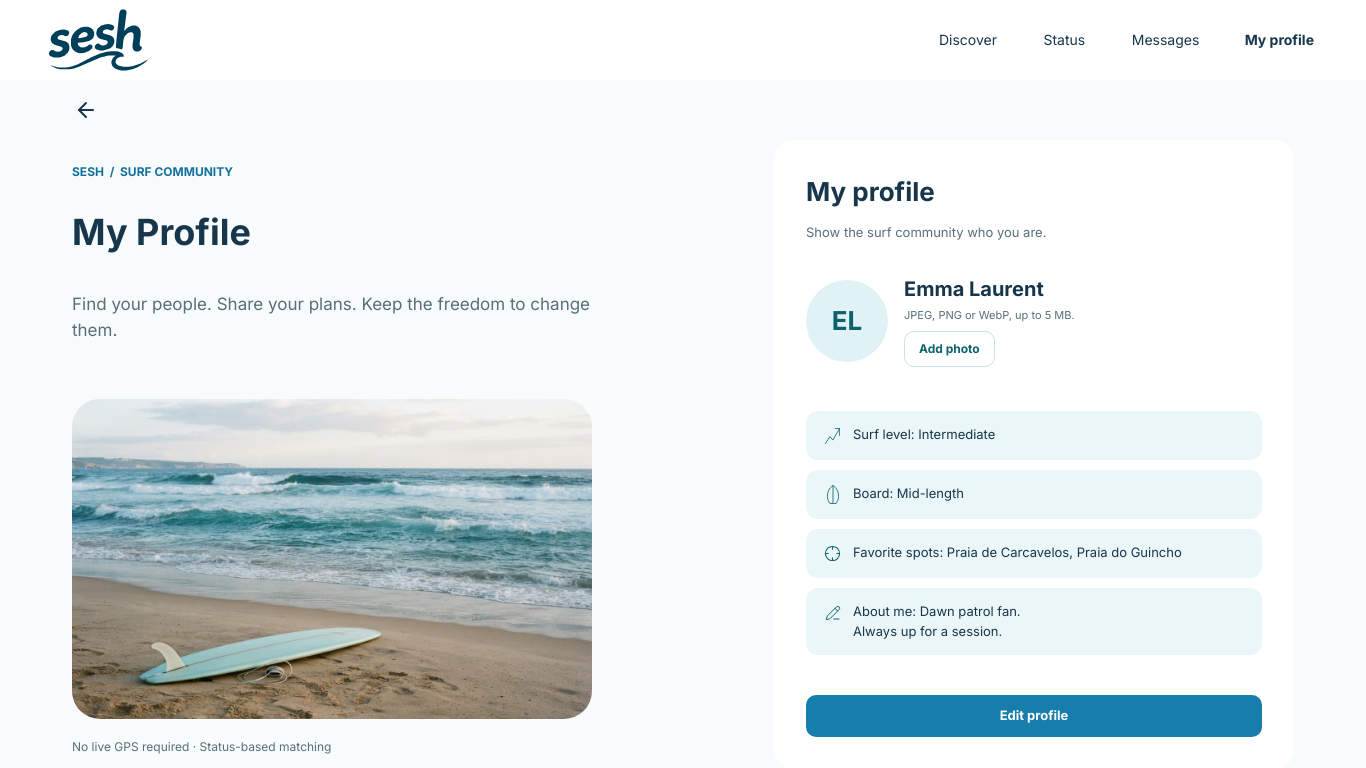
Test: Edit mode › opens with the saved values, keeps the photo controls, and focuses the first field
Expected: the element named "Profile details" is shown, [806,411,1262,655]
Click the button "Edit profile" at (1034, 716), box [806,695,1262,737]
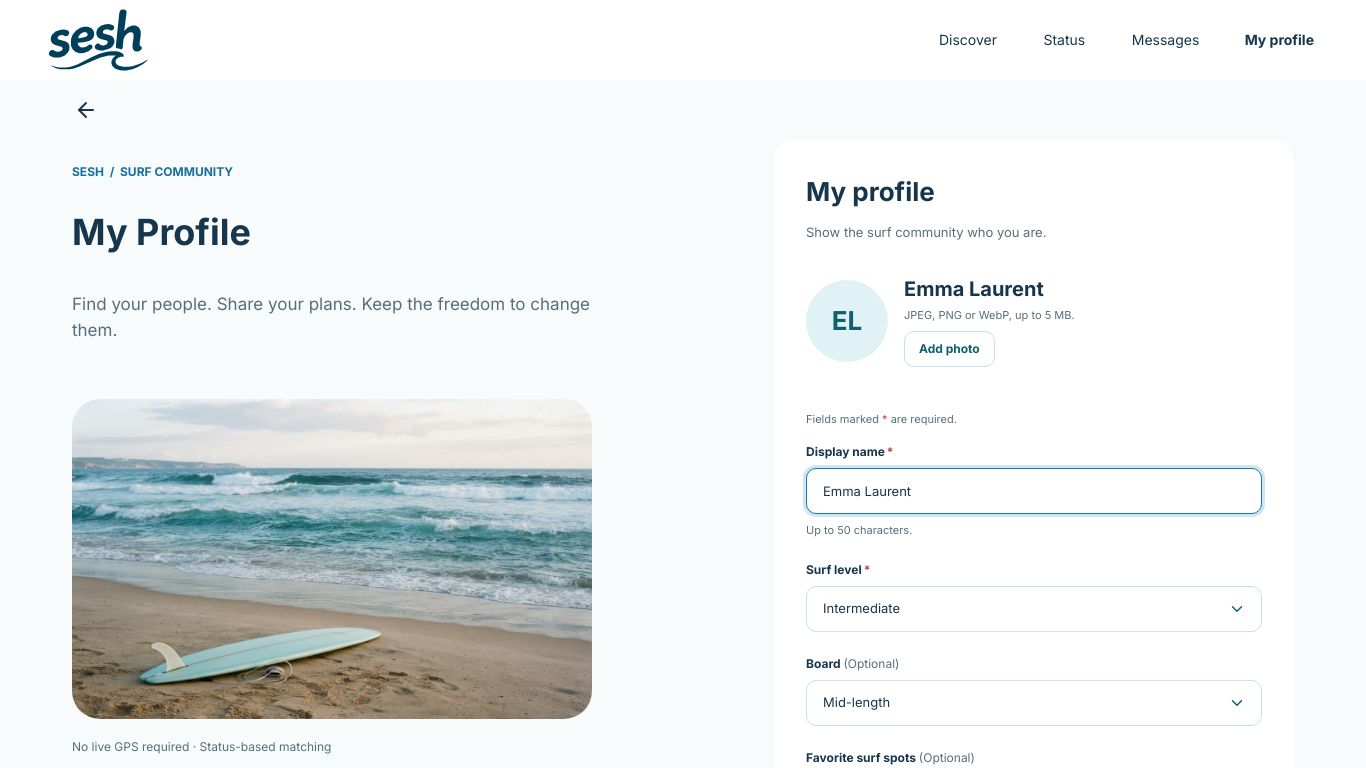
Now the field labelled "Display name*" holds "Emma Laurent", box [806,468,1262,514]
Now the dropdown labelled "Surf level*" shows "Intermediate", box [806,586,1262,632]
Now the dropdown labelled "Board (Optional)" shows "Mid-length", box [806,680,1262,726]
